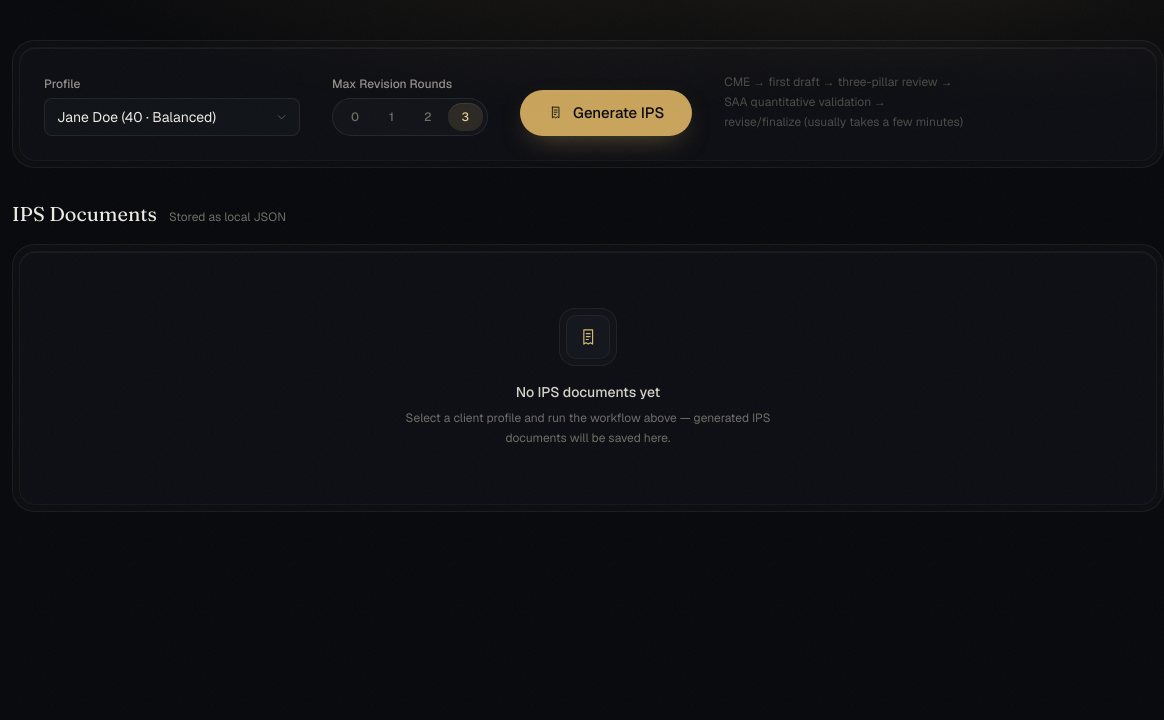
Test case: IpsWorkspace generation flow › surfaces a 503 from task creation without opening an SSE stream
The image size is (1164, 720).
Click the button "Generate IPS": {"x": 606, "y": 113} [520,90,692,136]
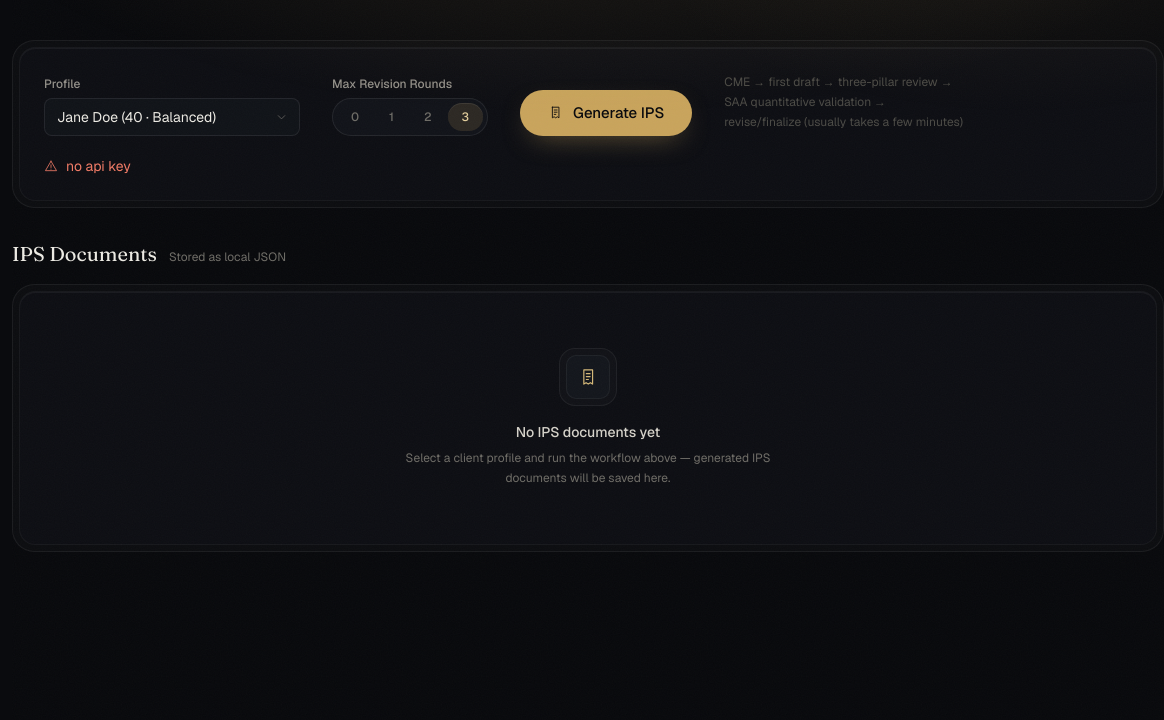
Expected: the text "no api key" is shown, [44,157,131,175]
